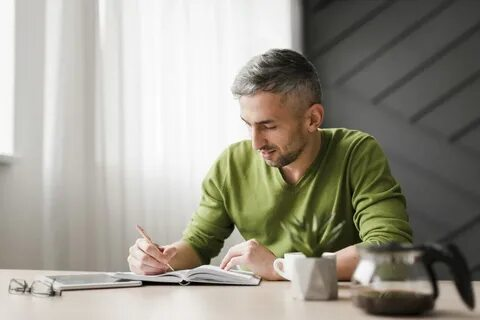awake: (126, 47, 415, 282)
